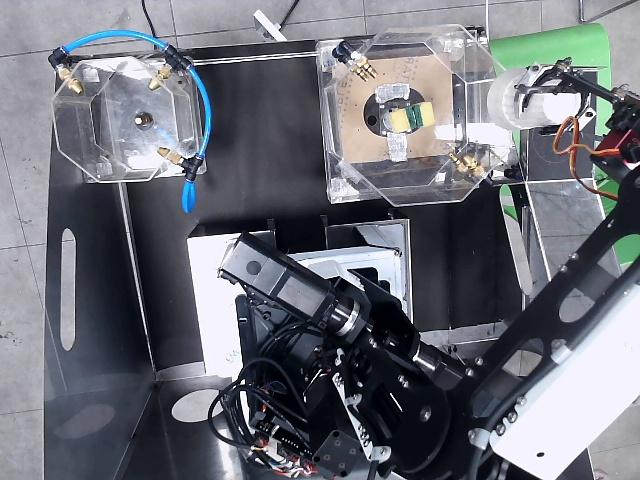cup: (487, 63, 582, 130)
